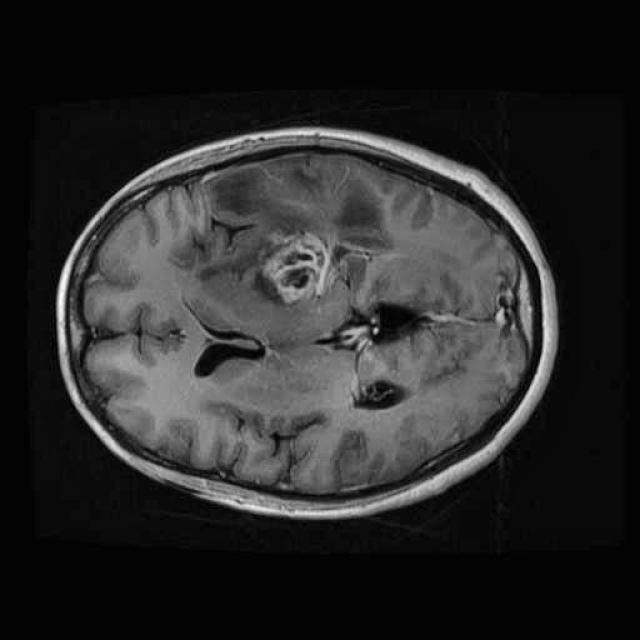Non-Tumor: (239, 214, 349, 318)
